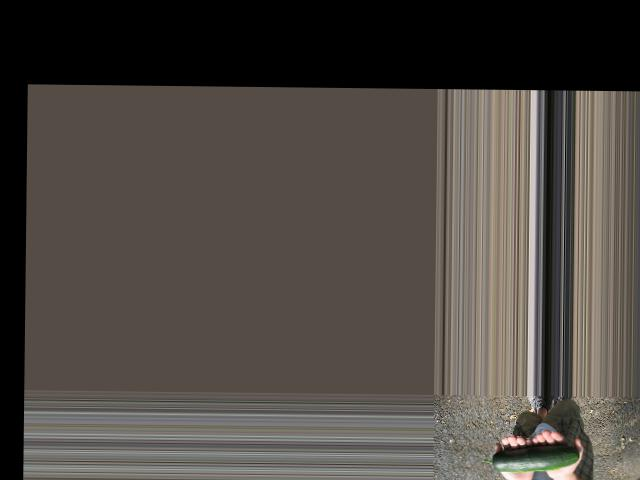cucumber: (481, 443, 578, 472)
